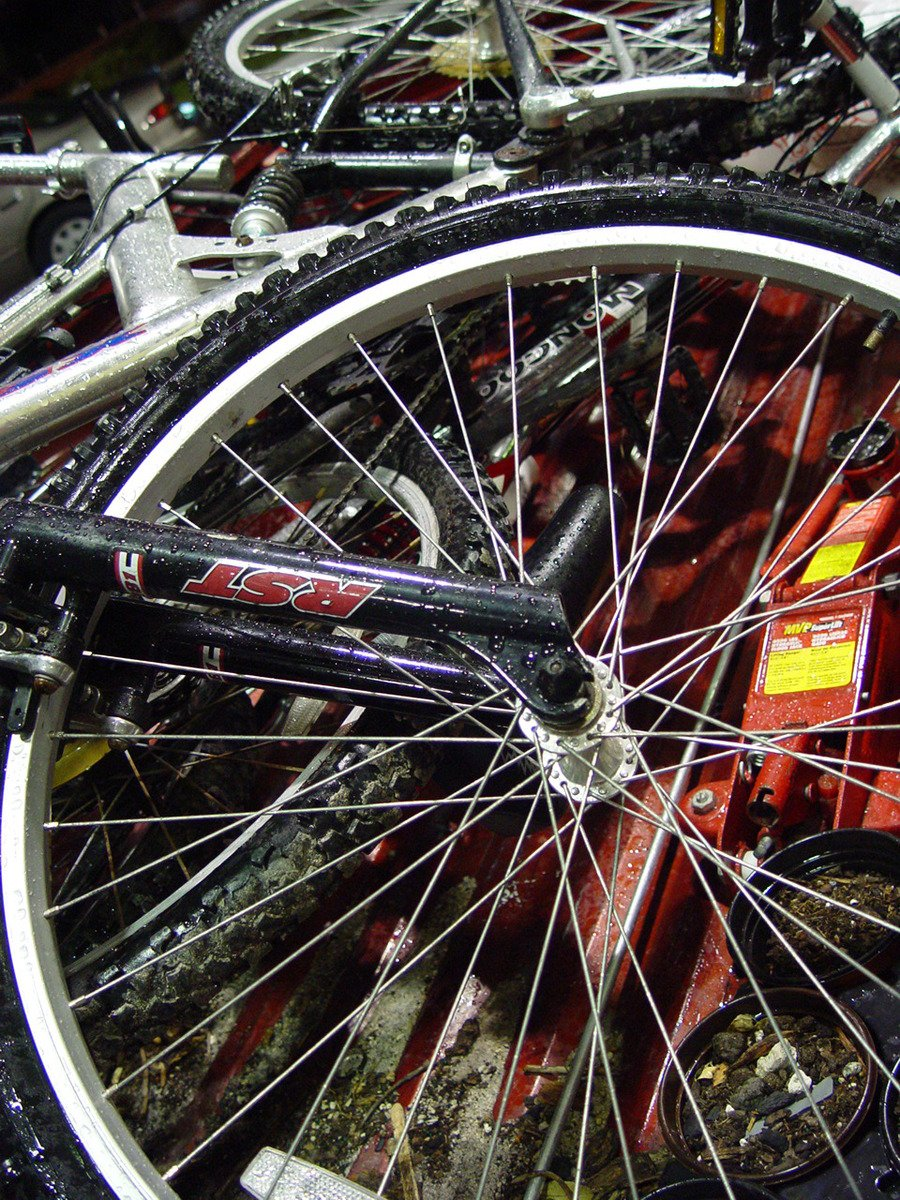Guitar: (41, 92, 899, 1156)
